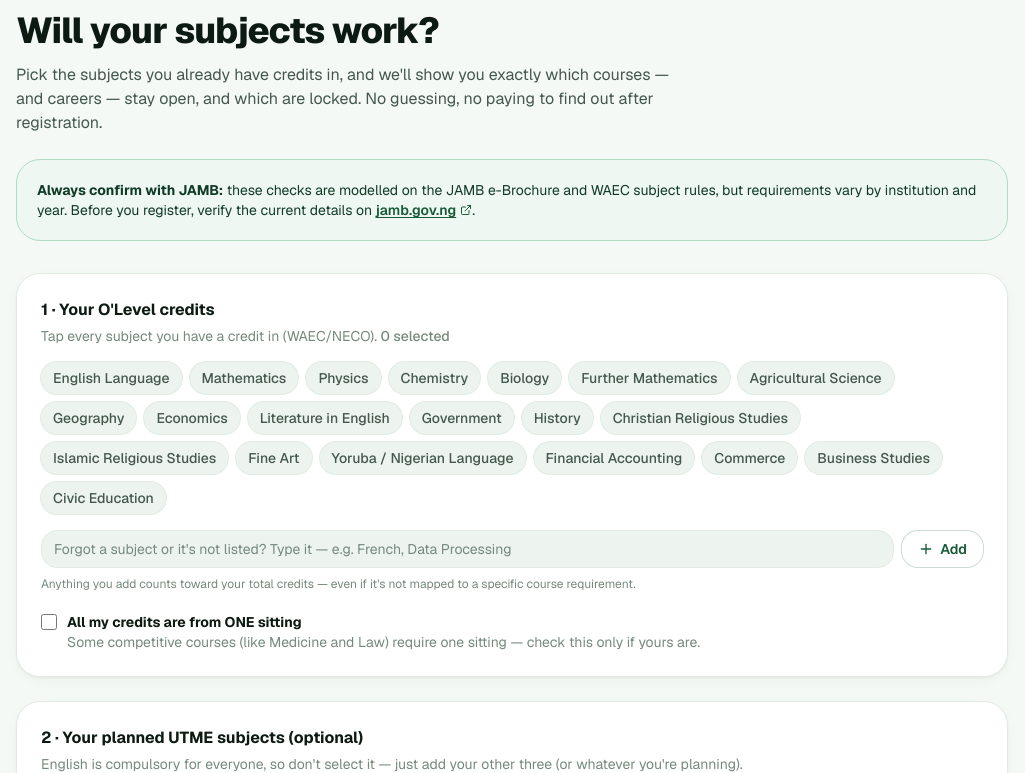
Test: SubjectChecker › lets the user add a subject that is not in the list
This screenshot has width=1025, height=773.
Replace the text in the field named "Add a subject not listed" with "computer studies" at {"x": 468, "y": 549}, box [41,530,894,568]
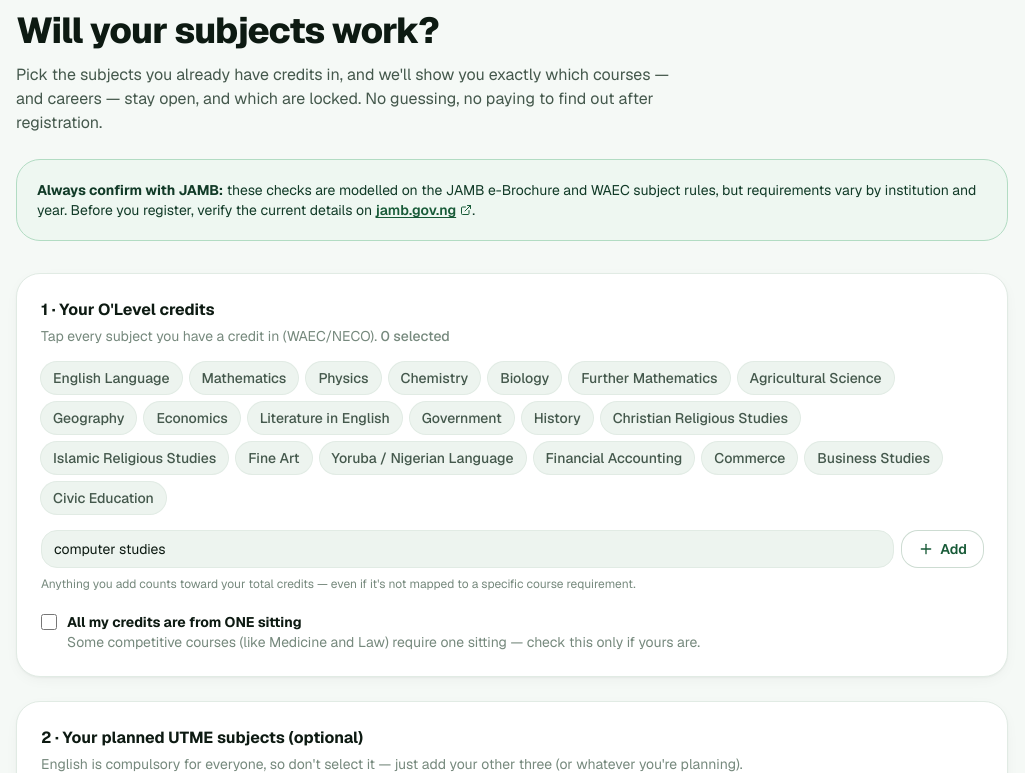
Click the button "Add" at {"x": 943, "y": 549}, box [902,531,983,567]
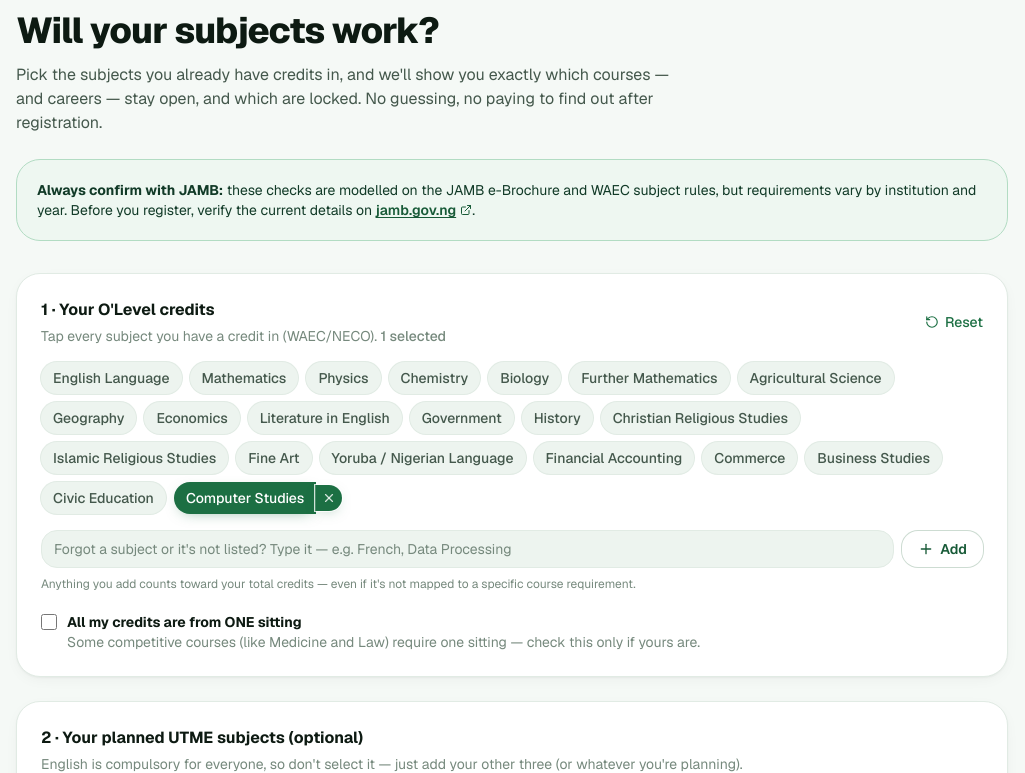
Now the text "1 selected" is shown, box [380,327,446,345]
Now the field named "Add a subject not listed" is empty, box [41,530,894,568]
